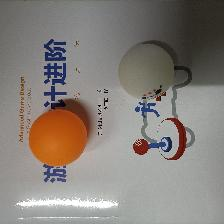WhiteBall: (117, 43, 174, 100)
YellowBall: (27, 109, 87, 167)
